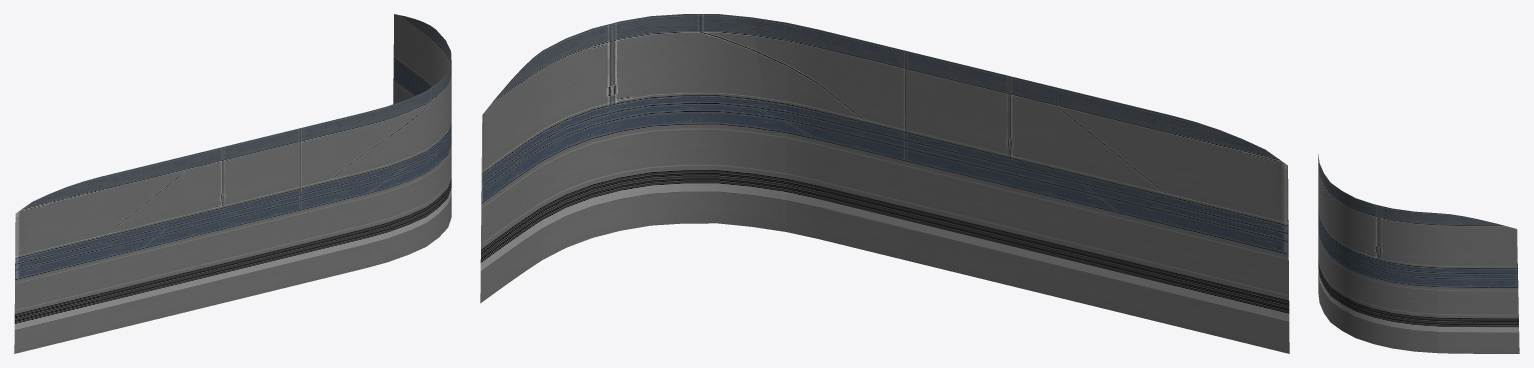
Rendered from Club_BackScreen_01.FBX.
The picture shows the model from 3 angles, left to right: view 1: azimuth 30°, elevation 25°; view 2: azimuth 150°, elevation 25°; view 3: azimuth 270°, elevation 25°; orthographic projection. The views are drawn at different scales.
Visible parts, largest first — view 1: Club_BackScreen_01; view 2: Club_BackScreen_01; view 3: Club_BackScreen_01.
Part boxes in pixels (x1,y1,x2,y2): Club_BackScreen_01: (14, 14, 451, 353); Club_BackScreen_01: (480, 14, 1289, 353); Club_BackScreen_01: (1318, 154, 1519, 353).
Size of the model in its own units: 4.23 by 1.29 by 1.68.
